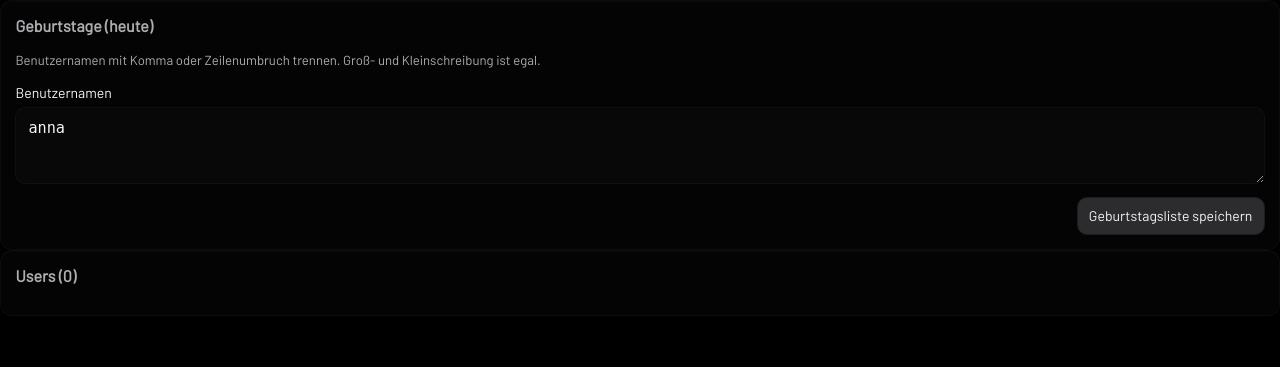
it: UsersPanel › saves birthday users as normalized list
Replace the text in the text box labelled "Benutzernamen" with "Max, ANNA" at (640, 146), box [15,108,1265,184]
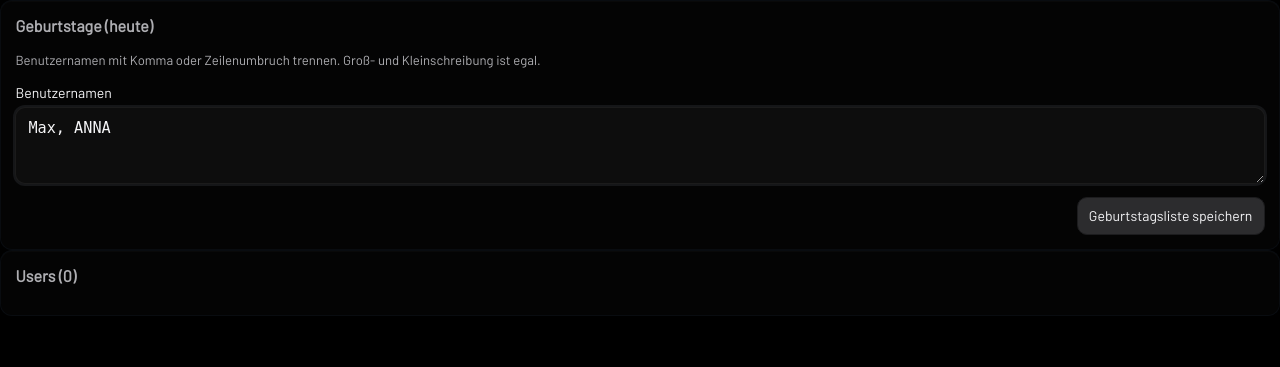
Click the button "Geburtstagsliste speichern" at (1171, 216), box [1077,197,1265,235]
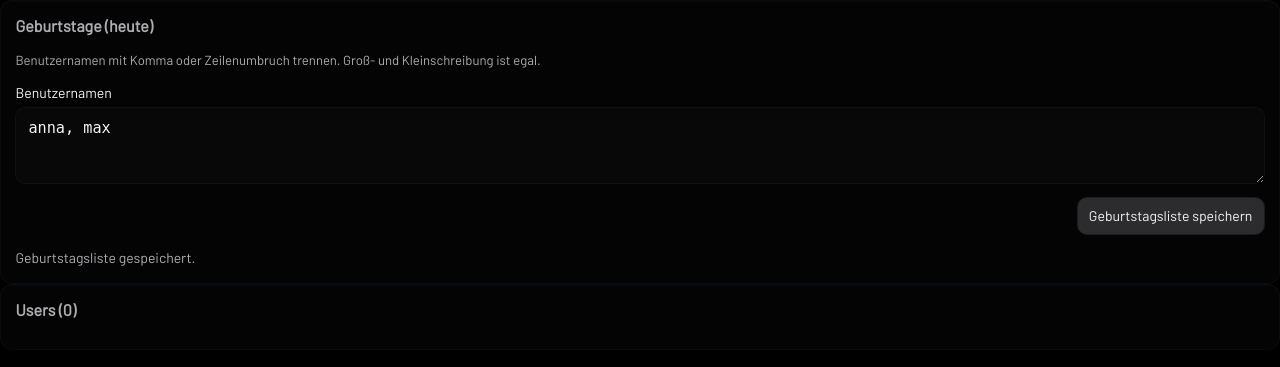
Now the text "Geburtstagsliste gespeichert." is shown, box [15,249,195,266]
